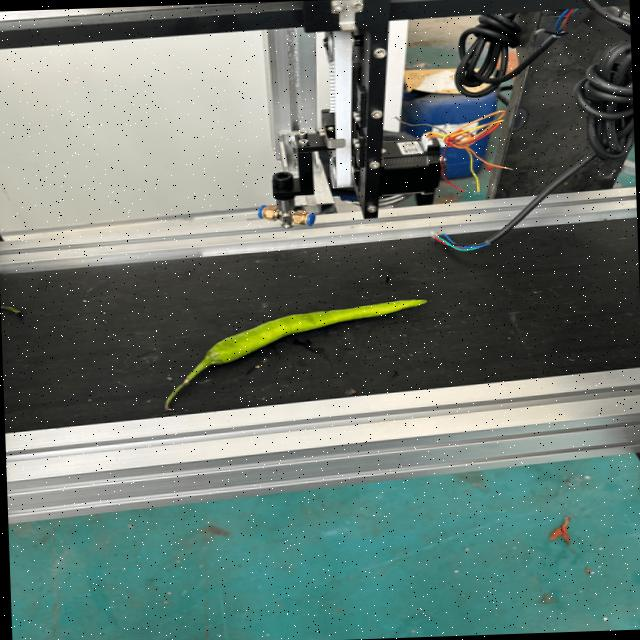chili: (203, 297, 433, 363)
